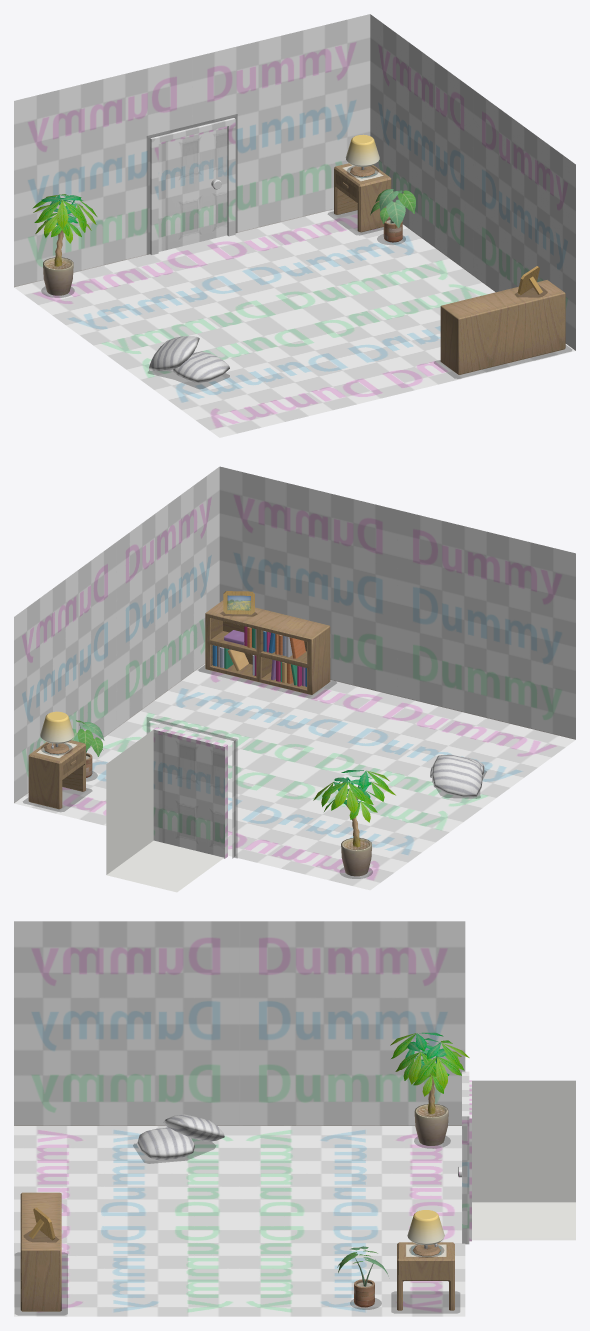
The model's file is resource_rmmdl.glb.
The picture shows the model from 3 angles, top to bottom: view 1: azimuth 30°, elevation 25°; view 2: azimuth 150°, elevation 25°; view 3: azimuth 270°, elevation 25°; orthographic projection. The views are drawn at different scales.
Parts seen in each view (by area): view 1: wall, floor, furniture, door; view 2: wall, floor, furniture, door, entrance; view 3: wall, floor, furniture, entrance, door.
Part boxes in pixels (x1,y1,x2,y2): wall: [14, 14, 575, 350]; floor: [14, 209, 575, 437]; furniture: [32, 134, 571, 388]; door: [147, 114, 237, 254]; wall: [14, 466, 575, 802]; floor: [14, 664, 575, 890]; furniture: [23, 591, 486, 878]; door: [147, 717, 237, 858]; entrance: [106, 727, 223, 892]; wall: [14, 921, 465, 1125]; floor: [14, 1126, 465, 1316]; furniture: [15, 1032, 469, 1315]; entrance: [472, 1080, 575, 1240]; door: [458, 1071, 471, 1244].
Bounding box in the file's own units: 68 × 34.17 × 84.67.
14 materials, 13 textured.
